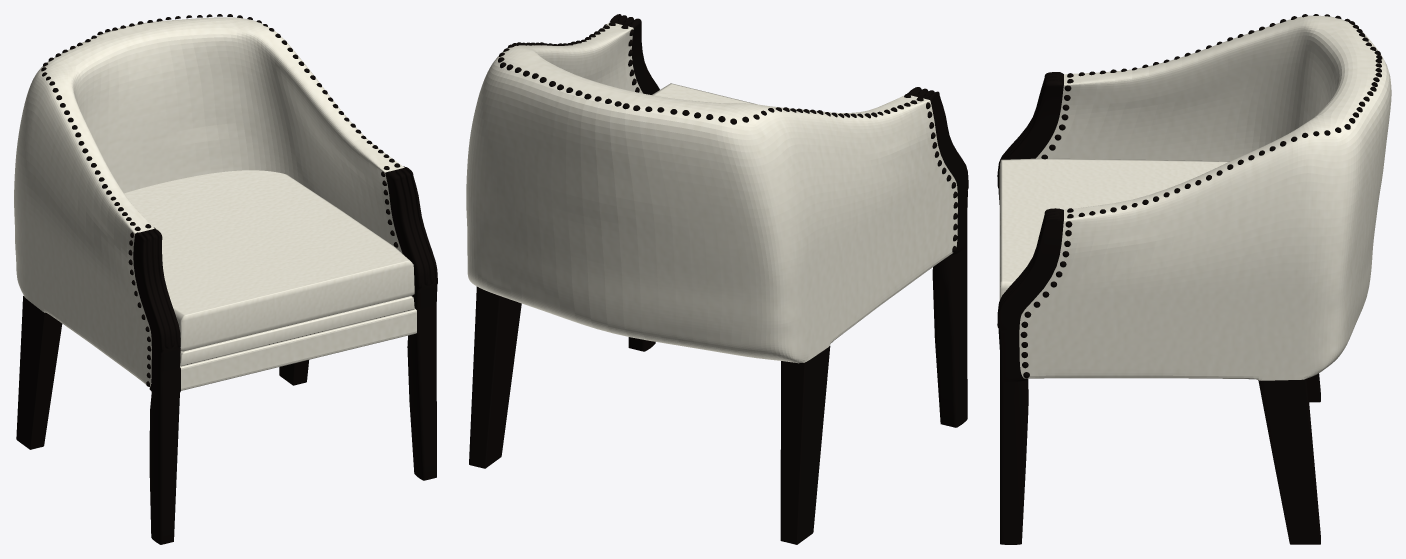
The model's file is Chairobj.obj.
The picture shows the model from 3 angles, left to right: view 1: azimuth 30°, elevation 25°; view 2: azimuth 150°, elevation 25°; view 3: azimuth 270°, elevation 25°; orthographic projection. The views are drawn at different scales.
Parts seen in each view (by area): view 1: seat2_imagePlane1_seat2_polySurface4_seat2_polySurface7_seat2_po, sofa333_sofa333_persp; view 2: seat2_imagePlane1_seat2_polySurface4_seat2_polySurface7_seat2_po, sofa333_sofa333_persp; view 3: seat2_imagePlane1_seat2_polySurface4_seat2_polySurface7_seat2_po, sofa333_sofa333_persp.
Boxes of the visible parts, x1,y1,x2,y2 form: seat2_imagePlane1_seat2_polySurface4_seat2_polySurface7_seat2_po: (14, 17, 416, 390); sofa333_sofa333_persp: (16, 14, 437, 544); seat2_imagePlane1_seat2_polySurface4_seat2_polySurface7_seat2_po: (466, 22, 957, 363); sofa333_sofa333_persp: (469, 14, 968, 544); seat2_imagePlane1_seat2_polySurface4_seat2_polySurface7_seat2_po: (1019, 15, 1391, 380); sofa333_sofa333_persp: (997, 14, 1382, 544).
Bounding box in the file's own units: 16.25 × 20.05 × 17.75.
